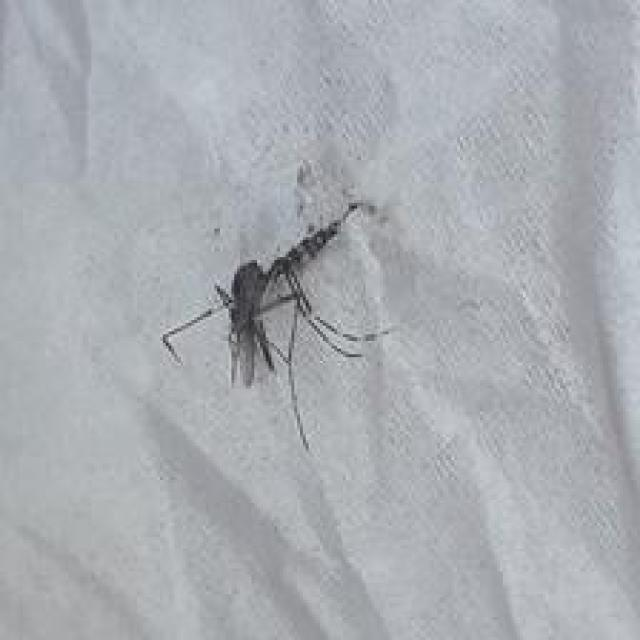Aedes albopictus: (160, 197, 397, 452)
